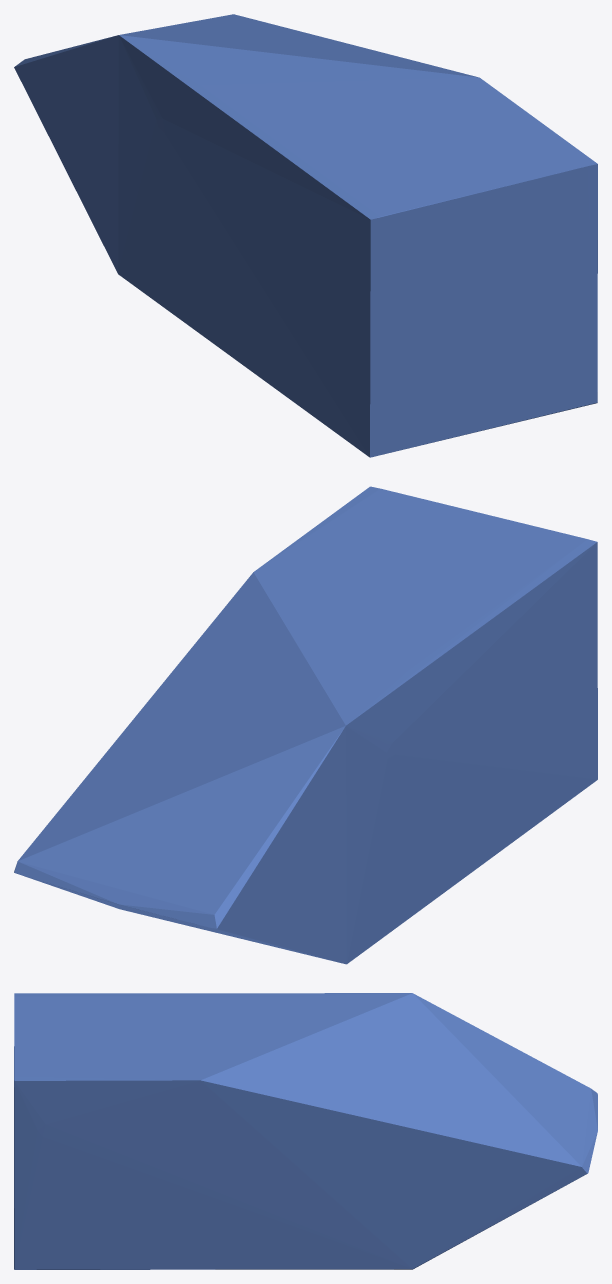
The model's file is cabinet_drum_flammable_a02.glb.
The picture shows the model from 3 angles, top to bottom: view 1: azimuth 30°, elevation 25°; view 2: azimuth 150°, elevation 25°; view 3: azimuth 270°, elevation 25°; orthographic projection. The views are drawn at different scales.
Parts seen in each view (by area): view 1: geometry_0; view 2: geometry_0; view 3: geometry_0.
Part boxes in pixels (box(x1,y1,x2,y2)): geometry_0: box(14, 14, 597, 457); geometry_0: box(14, 486, 597, 964); geometry_0: box(14, 993, 597, 1269).
Size of the model in its own units: 0.1725 by 0.1721 by 0.48.
